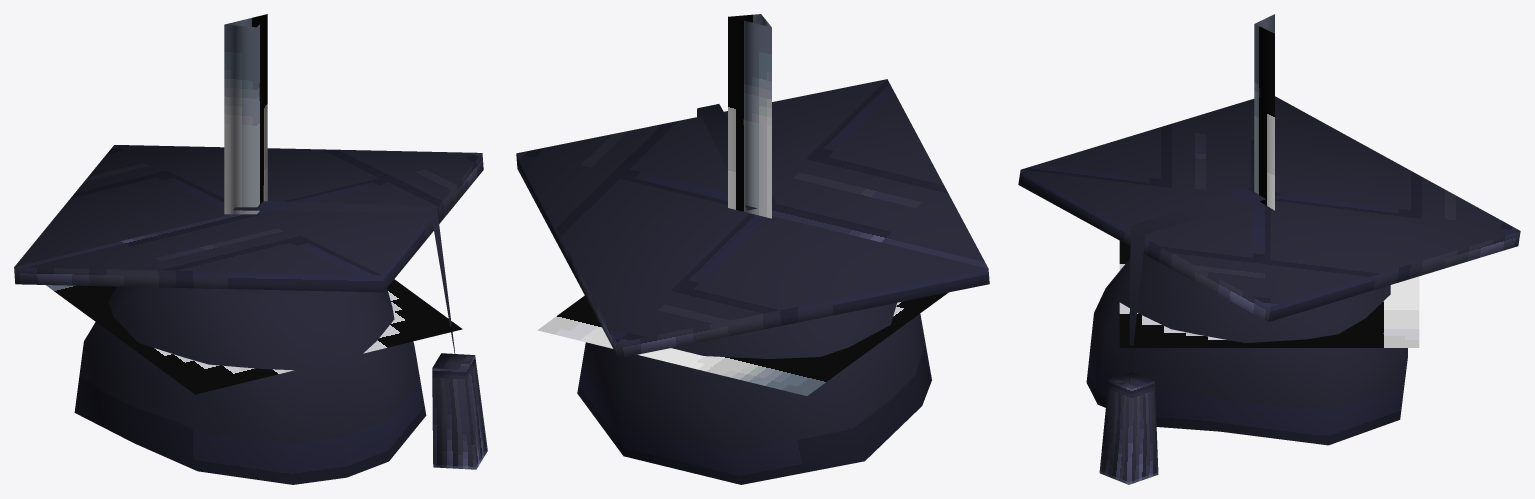
3 renders of one model, left to right at view 1: azimuth 30°, elevation 25°; view 2: azimuth 150°, elevation 25°; view 3: azimuth 270°, elevation 25°, orthographic. The views are drawn at different scales.
Visible parts, largest first — view 1: 2895head031_c; view 2: 2895head031_c; view 3: 2895head031_c.
Part boxes in pixels (box(x1,y1,x2,y2)): 2895head031_c: box(14, 14, 487, 484); 2895head031_c: box(516, 14, 989, 484); 2895head031_c: box(1018, 14, 1520, 484).
Bounding box in the file's own units: 0.8091 × 0.689 × 0.8052.
2 materials, 2 textured.
